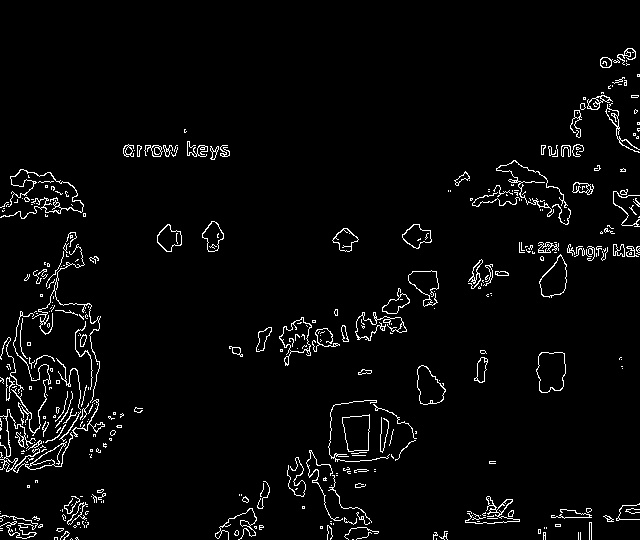rune_box: (75, 181, 492, 279)
